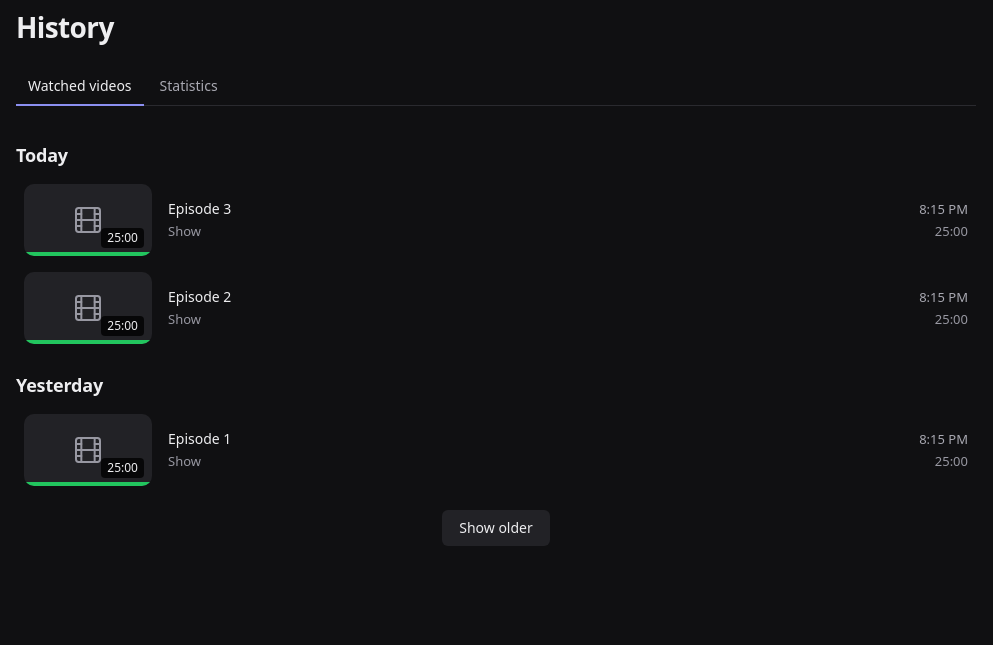
Test: HistoryPage › lists watched videos by day and loads older ones on request
The image size is (993, 645).
Expected: the heading "Today" is shown, [16,143,68,167]
Expected: the heading "Yesterday" is shown, [16,373,103,397]
What coordinates should you click on to do the following:
click the button "Show older"
I would click on:
 (496, 528)
Its box is [442,510,550,546].
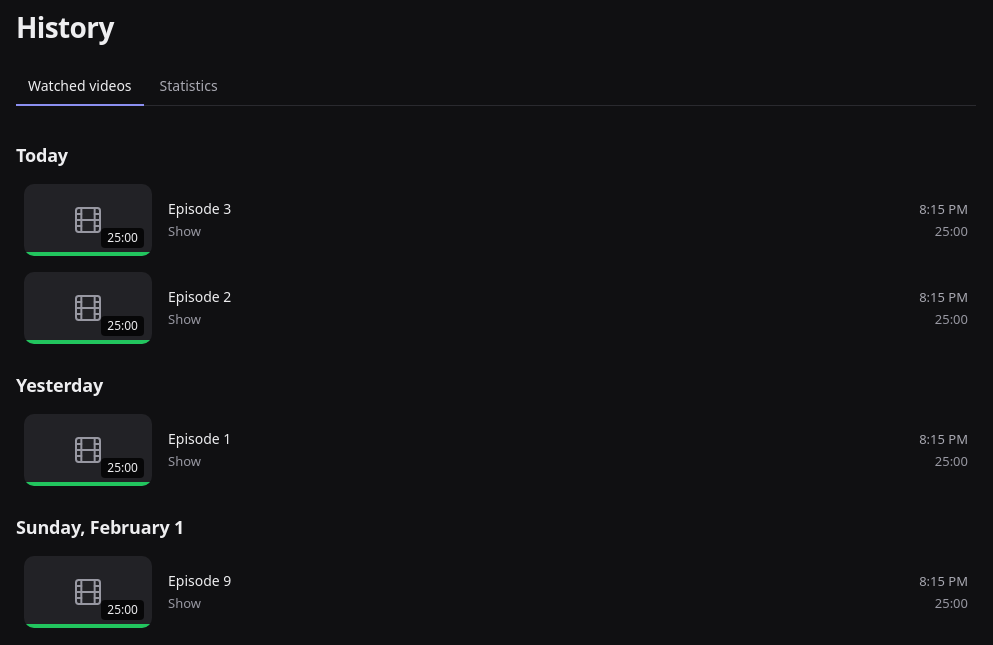
Now the heading "Sunday, February 1" is shown, box [16,515,184,539]
Now the button "Show older" is gone
